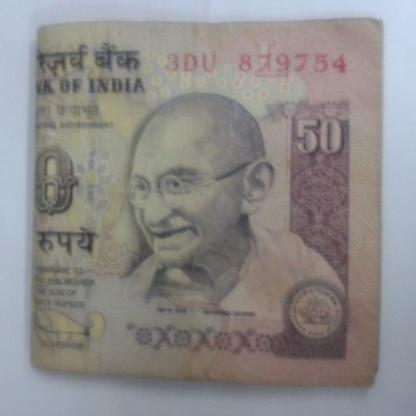Old50Front: (31, 17, 384, 390)
